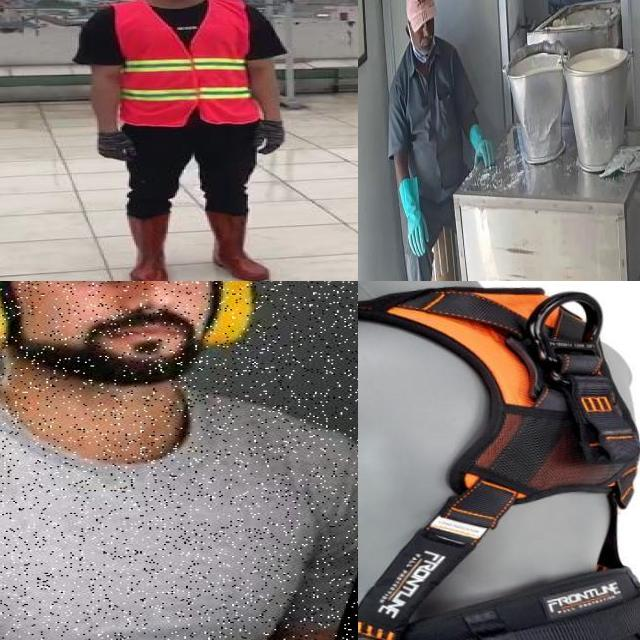Ear-protection: (203, 281, 252, 354)
Harness: (358, 288, 640, 640)
boots: (205, 211, 274, 281), (121, 213, 175, 281)
face_nomask: (409, 13, 440, 53)
hand_glove: (400, 208, 433, 260), (252, 118, 287, 153), (97, 134, 138, 163), (467, 136, 500, 172)
head_nohelmet: (402, 0, 439, 33)
person: (72, 0, 305, 281), (382, 0, 496, 281)
vest: (109, 0, 258, 125)
